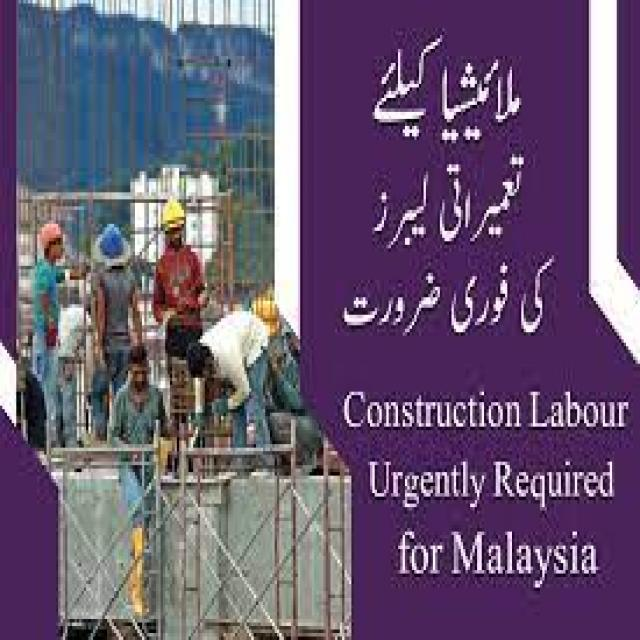Safety-Helmet: (93, 217, 130, 269), (156, 189, 191, 238), (32, 213, 68, 259)
